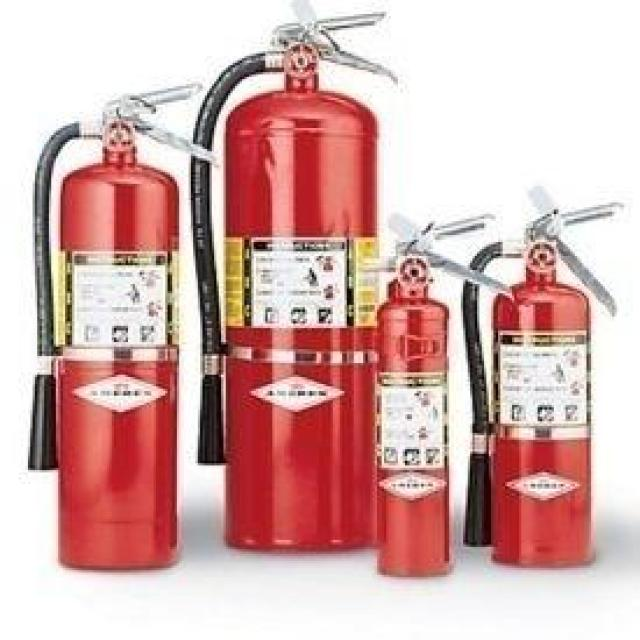fire_extinguisher: (180, 0, 408, 556), (16, 77, 228, 579), (454, 180, 631, 576), (352, 202, 518, 582)
